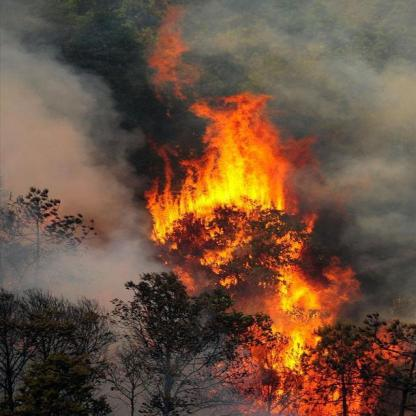fire: (134, 100, 393, 416), (145, 14, 200, 98)
smoke: (7, 2, 188, 175)
